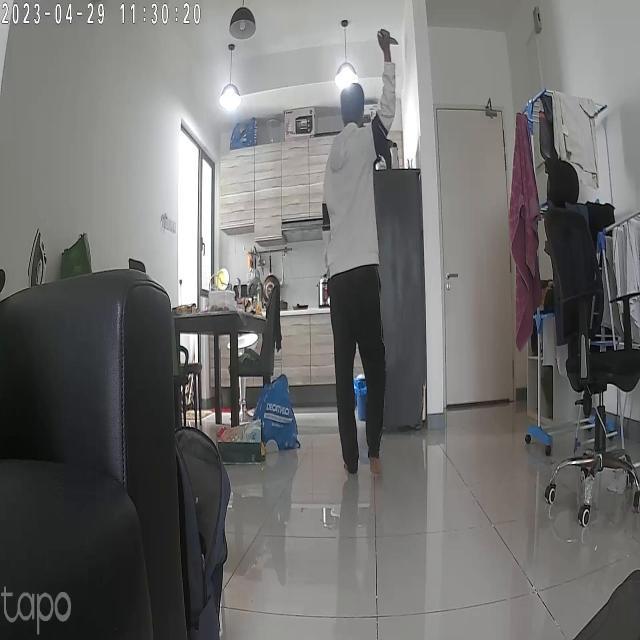Knife: (376, 31, 406, 56)
